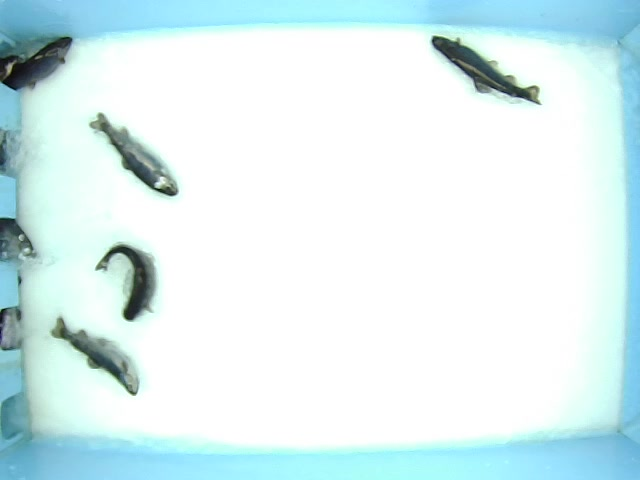fish: (412, 30, 561, 110), (49, 318, 148, 404), (86, 111, 180, 197), (85, 237, 179, 317), (6, 34, 91, 98)
